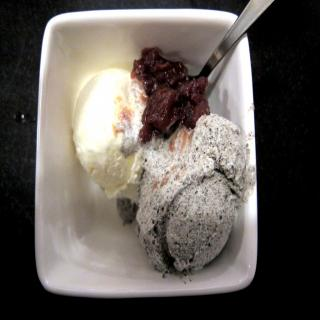Ice cream: (39, 26, 256, 269)
